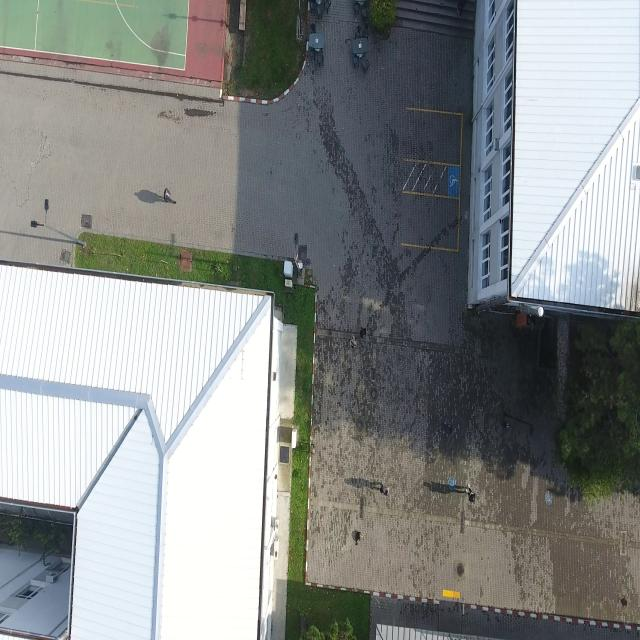p3rson: (163, 187, 176, 204), (464, 483, 475, 502), (457, 0, 467, 18), (443, 421, 452, 436), (380, 482, 389, 495), (350, 335, 356, 348), (360, 327, 366, 338)
